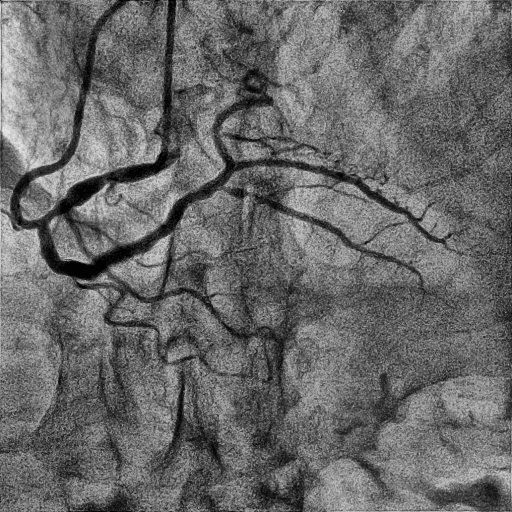pborca: (213, 95, 274, 183)
pda: (220, 185, 443, 300)
rca: (38, 155, 224, 281)
